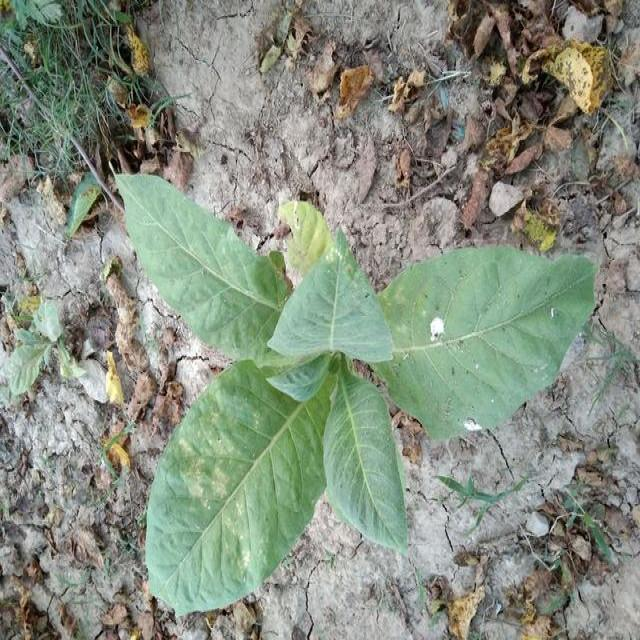crop: (123, 163, 598, 614)
